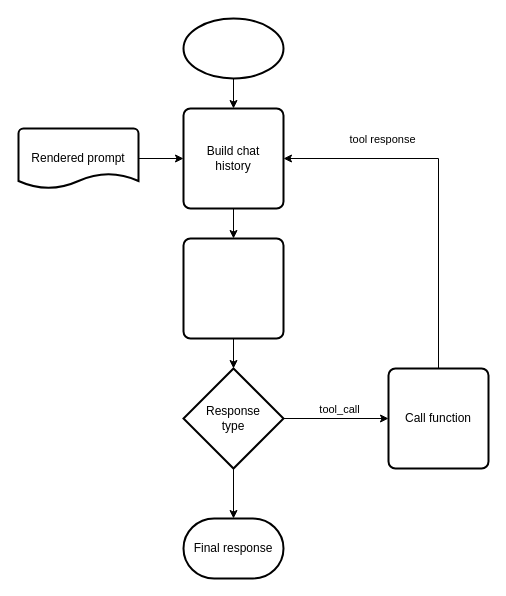
The diagram is 506 pixels wide and 596 high, and some of its shapes have lost their labels. Each missing label, with the box of its shape:
Call LLM: (182, 237, 284, 339)
Start: (182, 17, 284, 79)
